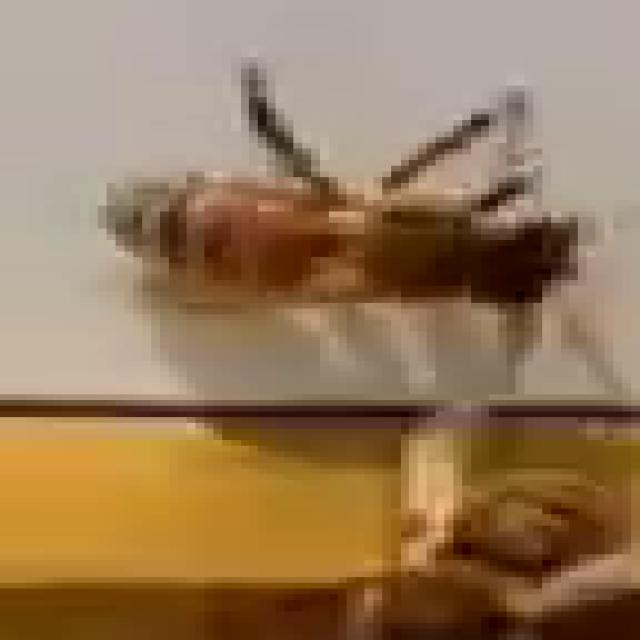honeybee: (97, 92, 585, 343)
